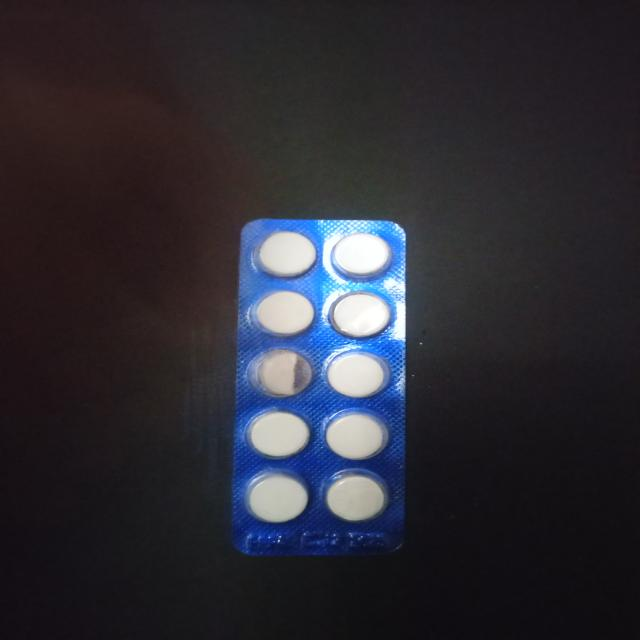defect: (243, 347, 318, 401)
